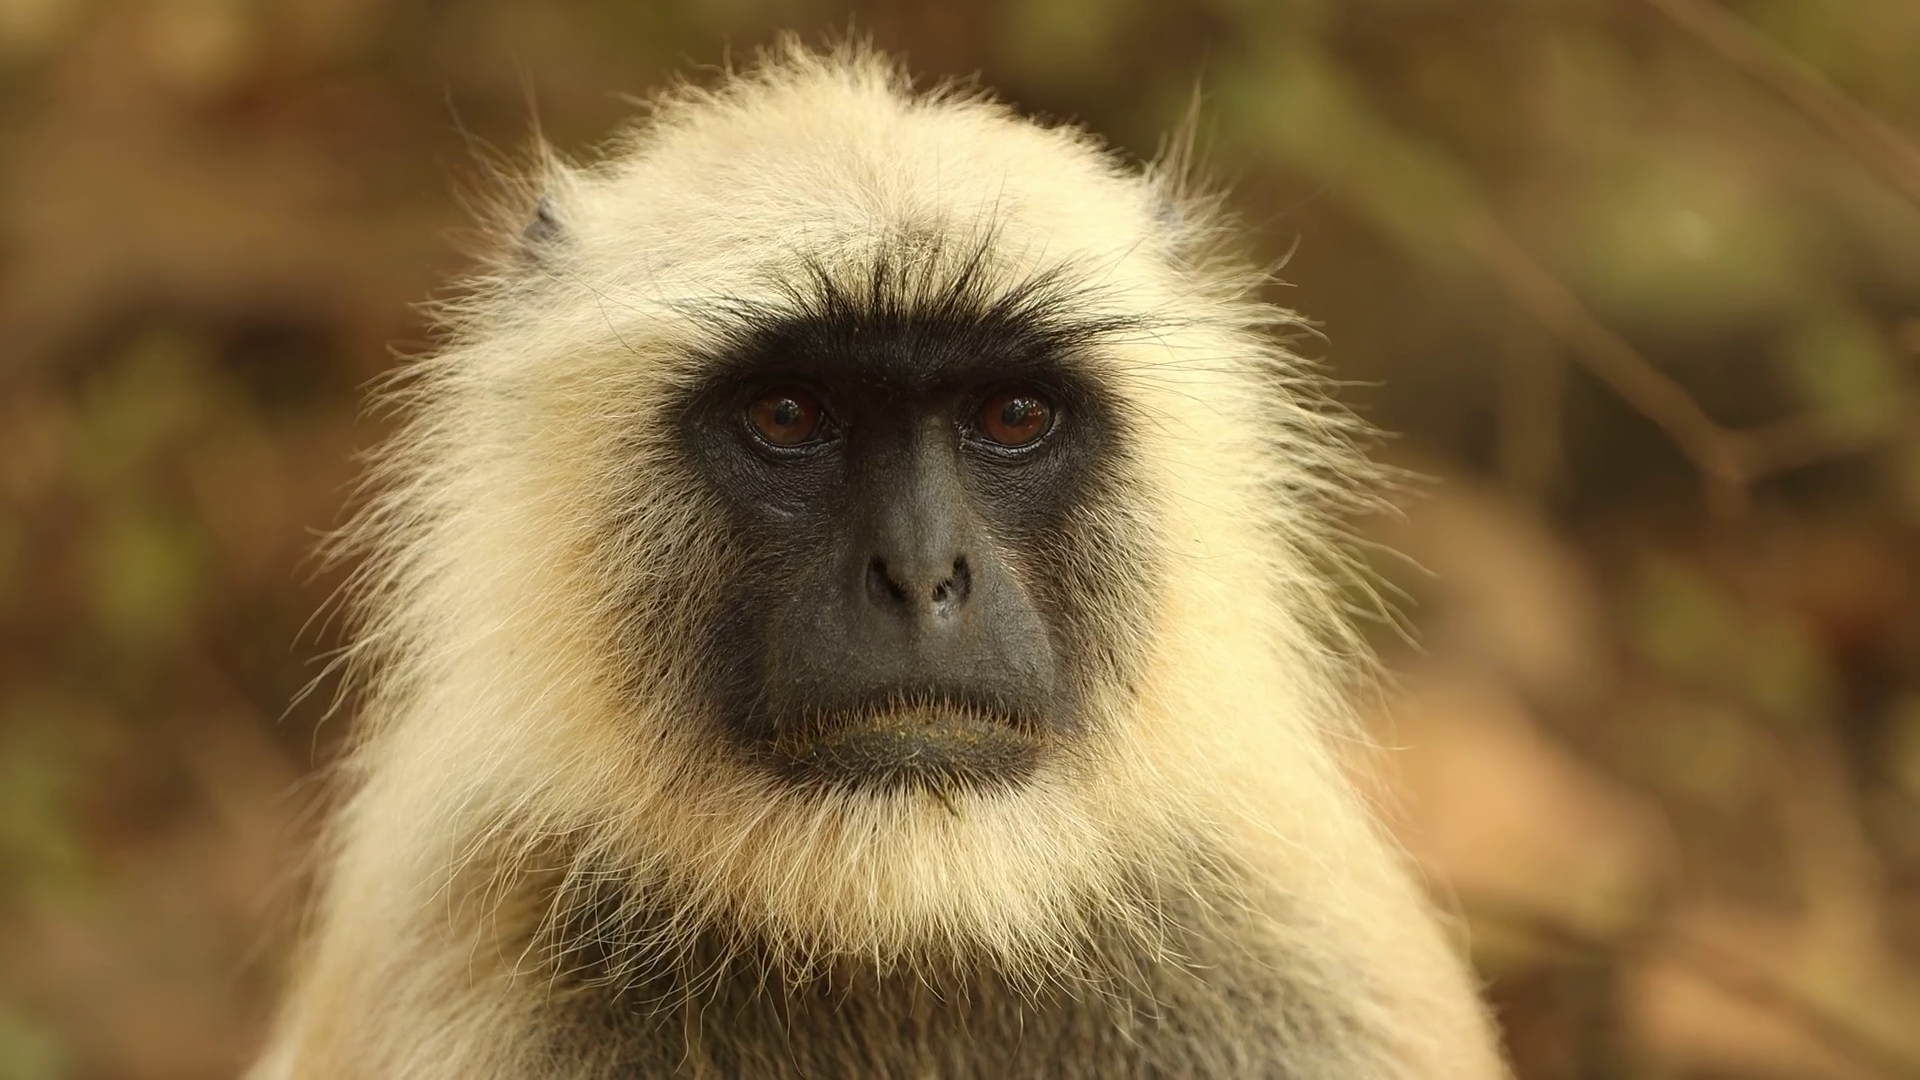monkey: (224, 37, 1547, 1080)
